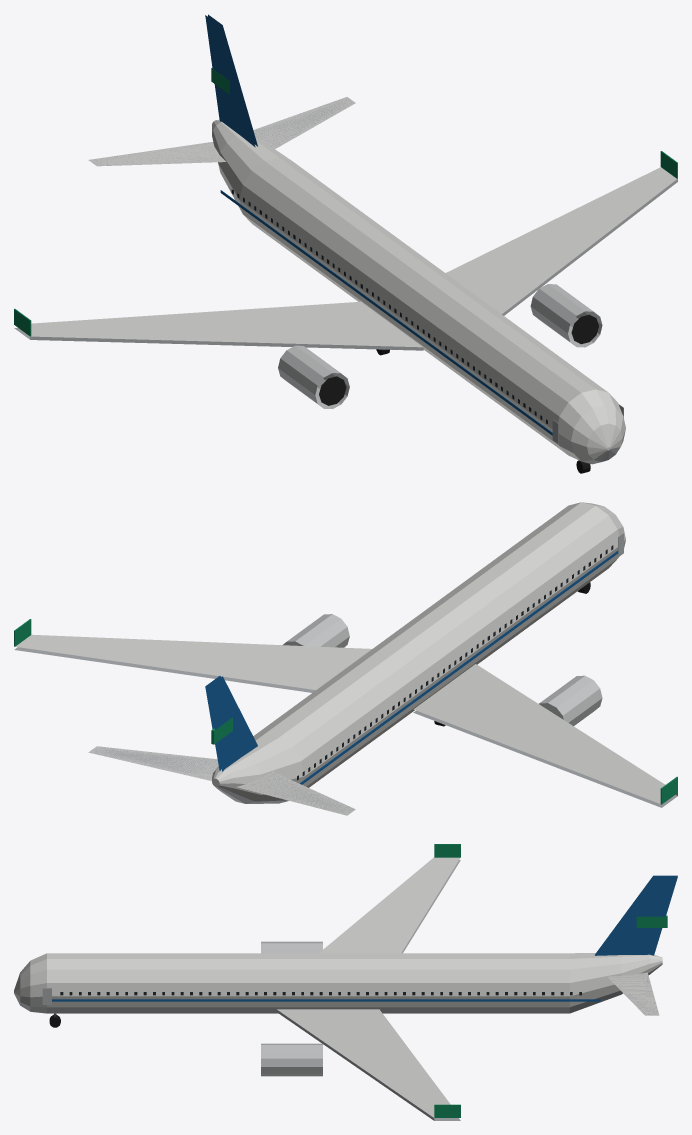
The model's file is ns_jet_wide.glb.
3 views of the same model, one above another, from view 1: azimuth 30°, elevation 25°; view 2: azimuth 150°, elevation 25°; view 3: azimuth 270°, elevation 25° (orthographic). The views are drawn at different scales.
Visible parts, largest first — view 1: ns_jet_wide; view 2: ns_jet_wide; view 3: ns_jet_wide.
Part boxes in pixels (bbox=[...]): ns_jet_wide: bbox=[14, 14, 677, 473]; ns_jet_wide: bbox=[14, 502, 677, 815]; ns_jet_wide: bbox=[14, 844, 677, 1120].
Bounding box in the file's own units: 60 × 16.07 × 64.5.
